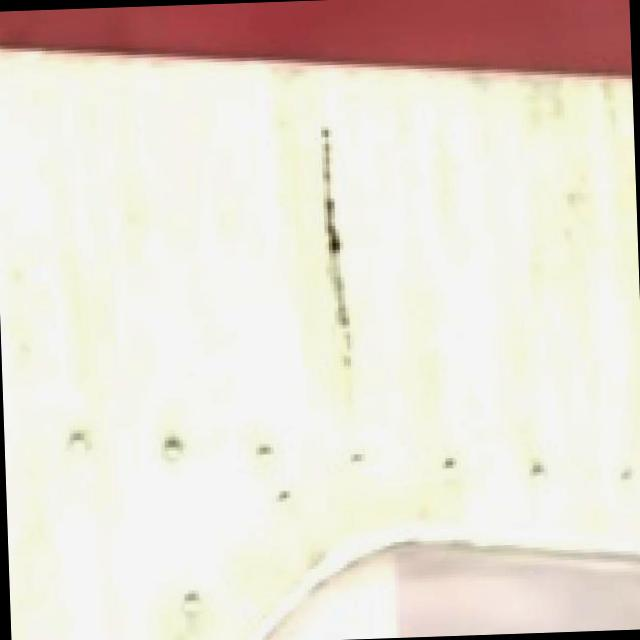crack: (257, 104, 398, 392)
